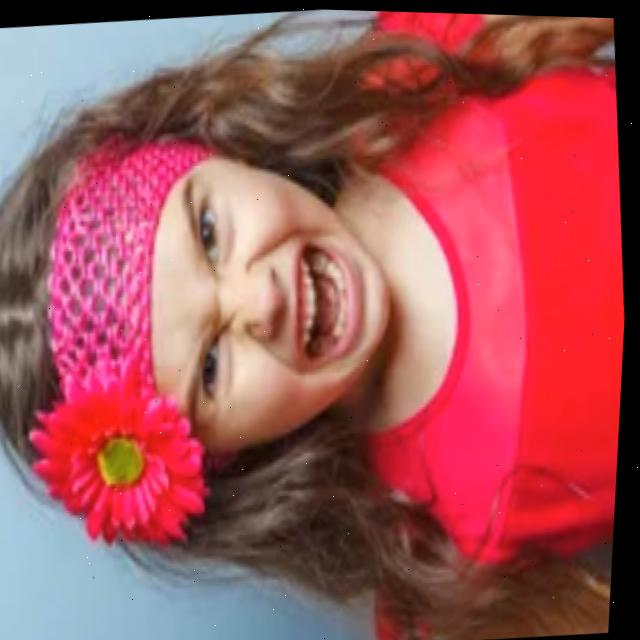angry: (107, 124, 429, 462)
